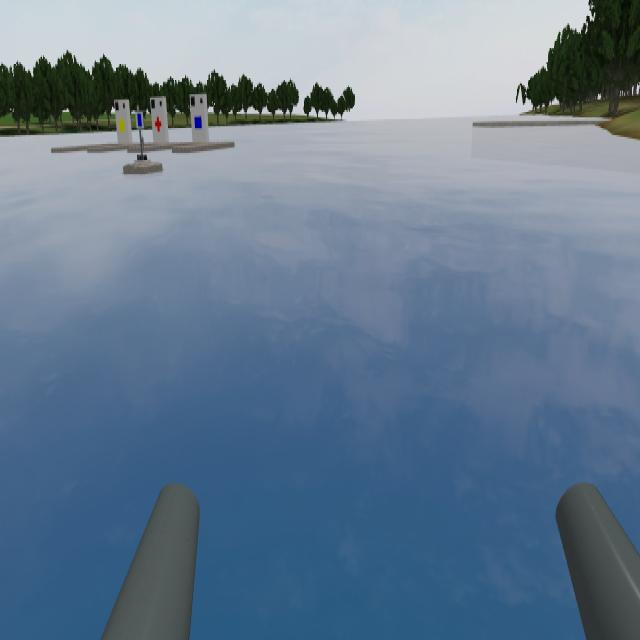blue_pole: (132, 106, 146, 137)
